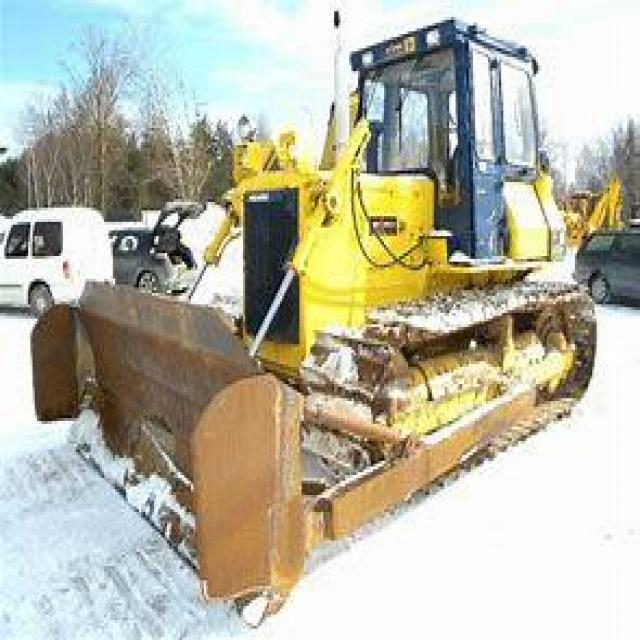Bulldozer: (19, 3, 638, 606)
